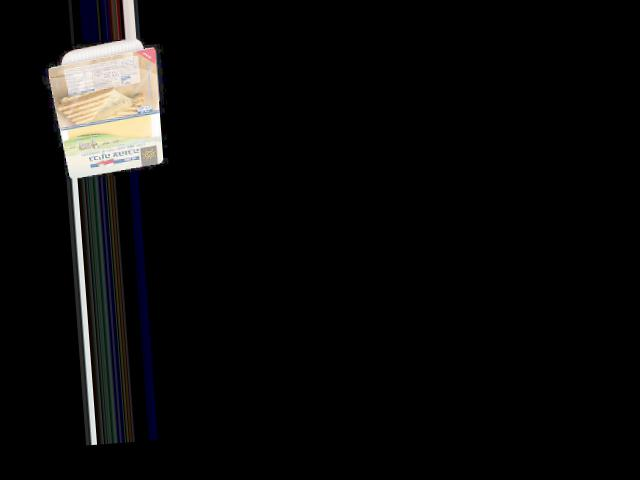cheese: (49, 37, 160, 178)
